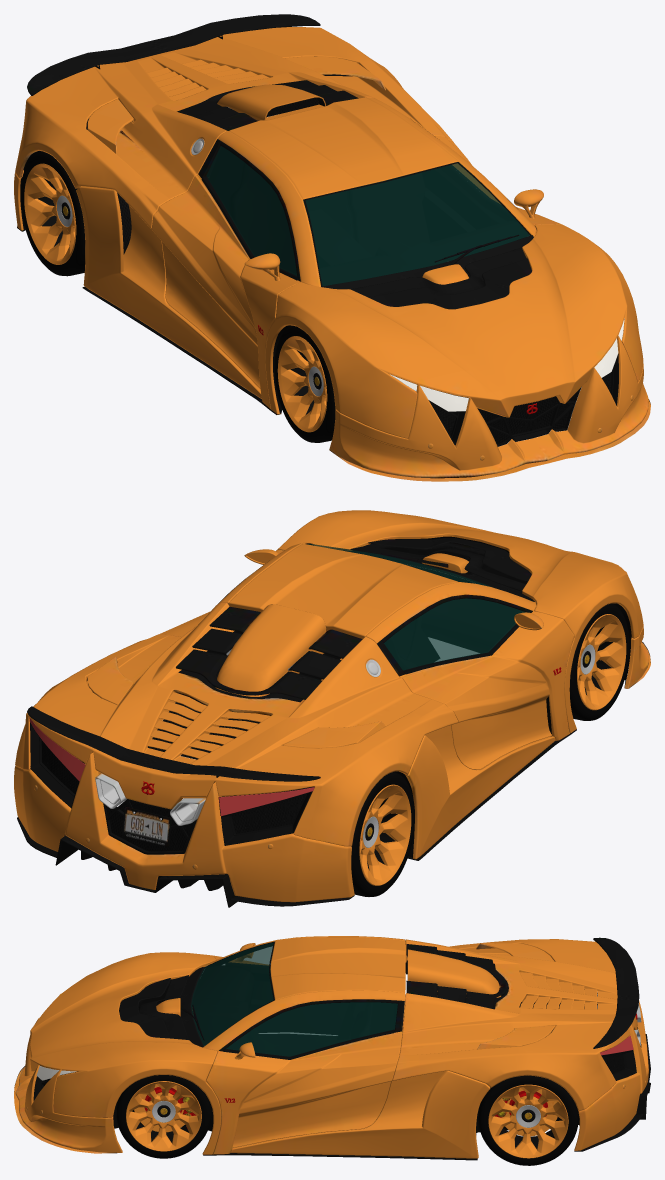
Rendered from car_race.glb.
3 renders of one model, top to bottom at view 1: azimuth 30°, elevation 25°; view 2: azimuth 150°, elevation 25°; view 3: azimuth 270°, elevation 25°, orthographic. The views are drawn at different scales.
Parts seen in each view (by area): view 1: body, wheel_RR, wheel_FR; view 2: body, wheel_RR, wheel_FR; view 3: body, wheel_RL, wheel_FL.
Part boxes in pixels (bbox=[...]): body: bbox=[14, 14, 650, 481]; wheel_RR: bbox=[20, 151, 85, 276]; wheel_FR: bbox=[274, 325, 335, 442]; body: bbox=[14, 510, 650, 907]; wheel_RR: bbox=[351, 771, 414, 896]; wheel_FR: bbox=[569, 603, 629, 720]; body: bbox=[14, 936, 650, 1160]; wheel_RL: bbox=[478, 1075, 578, 1165]; wheel_FL: bbox=[116, 1075, 211, 1158].
Bounding box in the file's own units: 2.18 × 1.16 × 4.55.
Materials: 5 (1 with a texture image).
